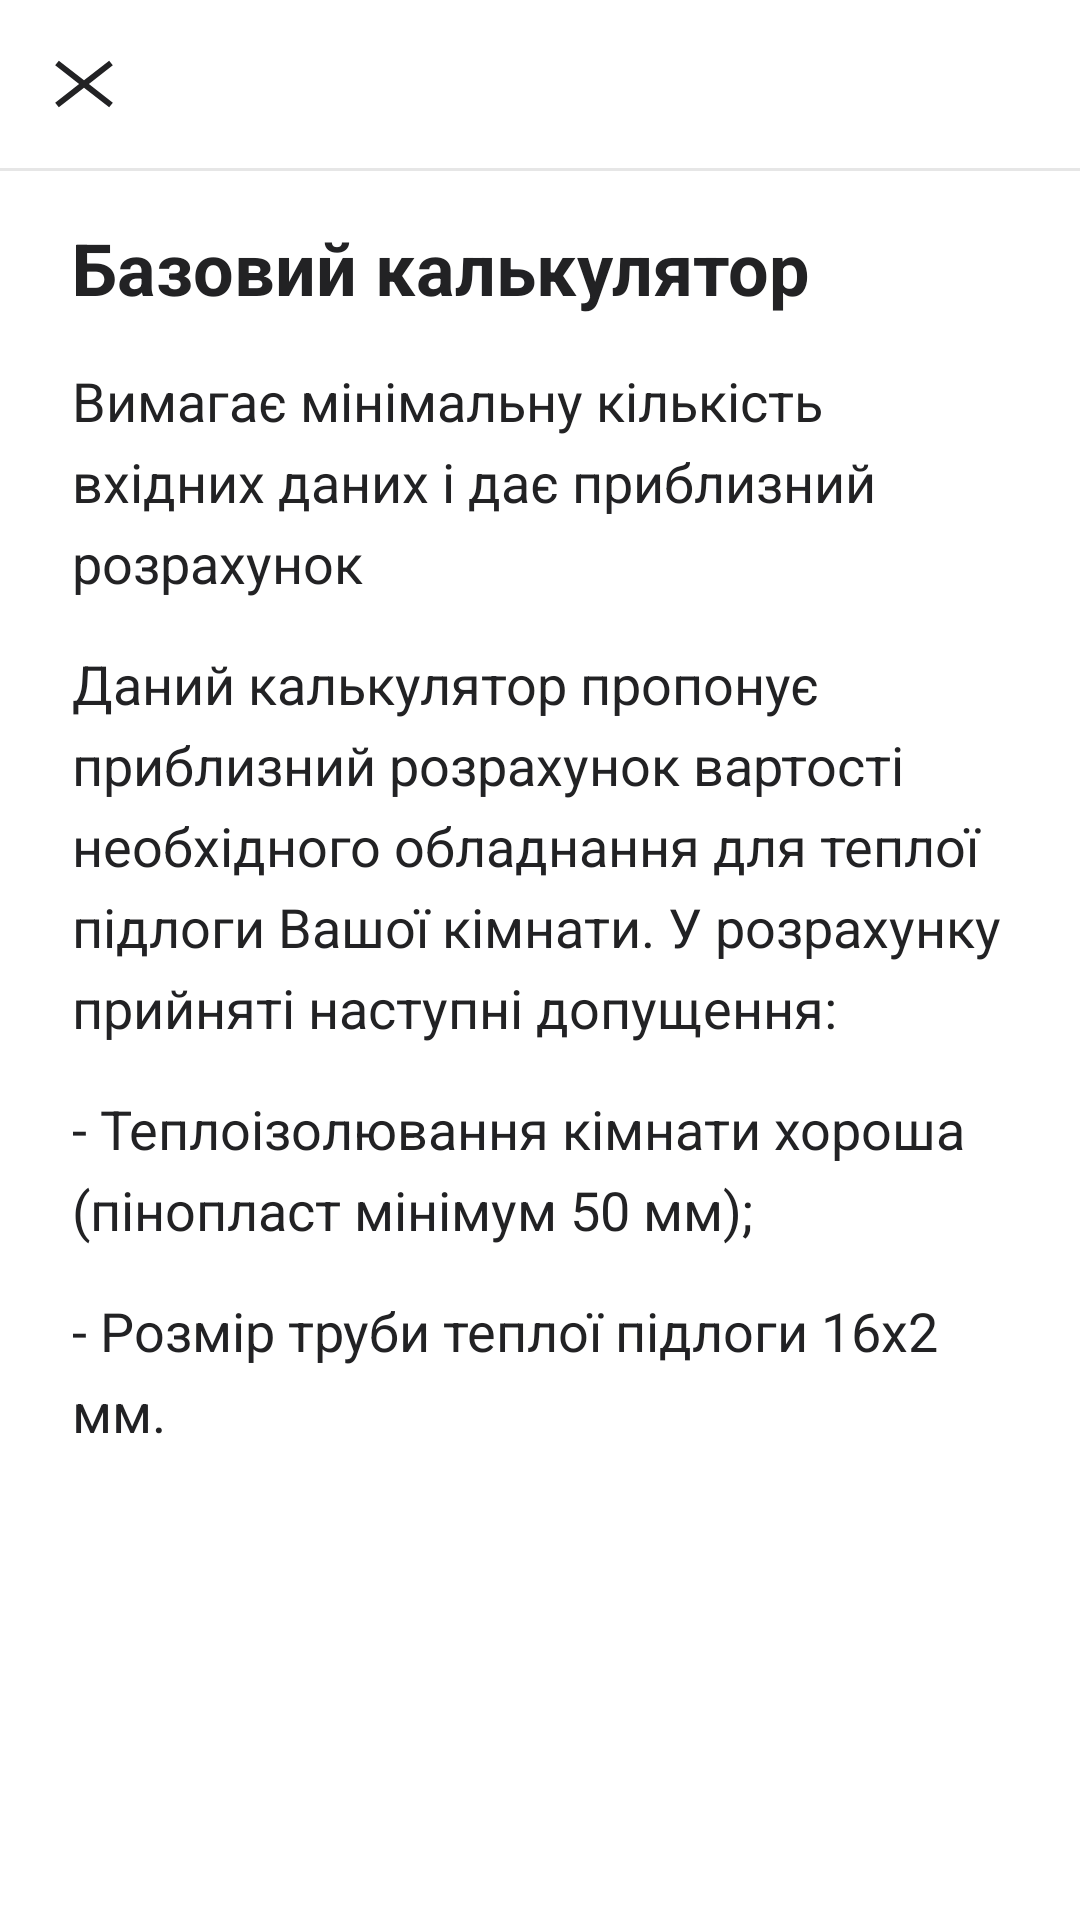

Point at icon controls on the screen. Image size 1080 × 1920, points as [x,y].
close cross: [84,84]
